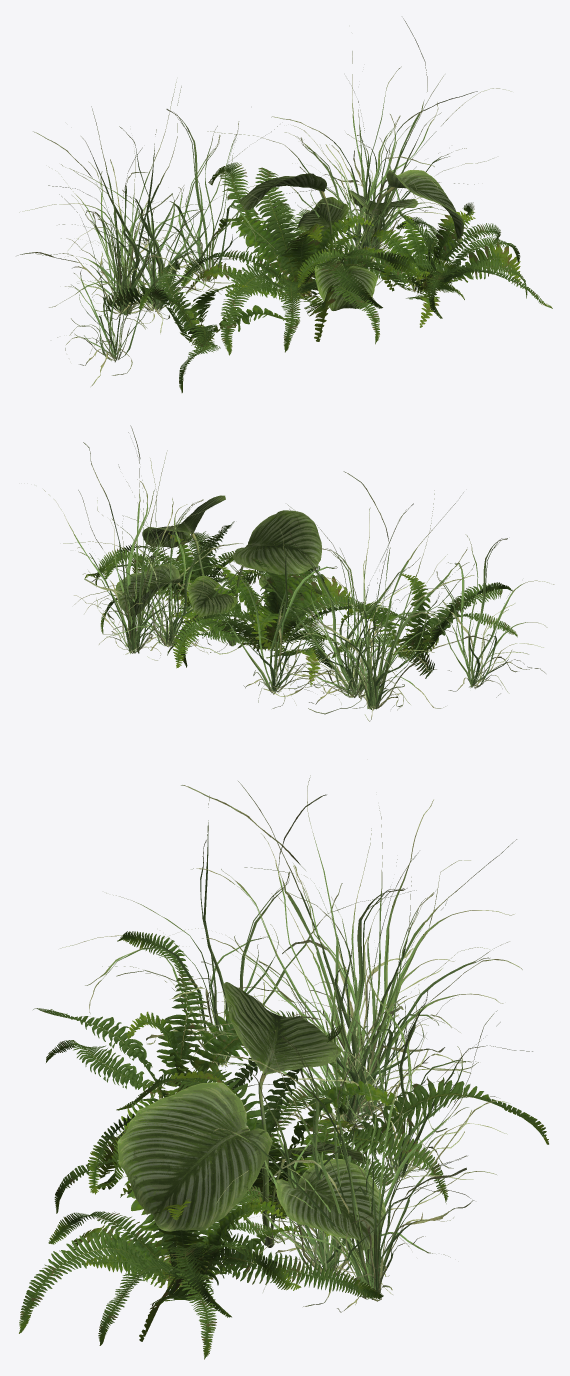
File: aquarium-plants-hd.glb
The picture shows the model from 3 angles, top to bottom: view 1: azimuth 30°, elevation 25°; view 2: azimuth 150°, elevation 25°; view 3: azimuth 270°, elevation 25°; orthographic projection. The views are drawn at different scales.
Visible parts, largest first — view 1: fern_02:fern_02_b (×2), grass_medium_02:grass_medium_02_d (×2), grass_medium_02:grass_medium_02_e (×2), calathea_orbifolia_01:calathea_orbifolia_01_b, grass_medium_02:grass_medium_02_c (×2), fern_02:fern_02_a; view 2: fern_02:fern_02_b (×2), grass_medium_02:grass_medium_02_e (×2), calathea_orbifolia_01:calathea_orbifolia_01_b, grass_medium_02:grass_medium_02_d (×2), grass_medium_02:grass_medium_02_c (×2), fern_02:fern_02_a; view 3: fern_02:fern_02_b (×2), calathea_orbifolia_01:calathea_orbifolia_01_b, grass_medium_02:grass_medium_02_e (×2), grass_medium_02:grass_medium_02_d (×2), fern_02:fern_02_a, grass_medium_02:grass_medium_02_c (×2).
Part boxes in pixels (x1=…): fern_02:fern_02_b (×2): x1=180, y1=162, x2=552, y2=355; grass_medium_02:grass_medium_02_d (×2): x1=19, y1=66, x2=474, y2=333; grass_medium_02:grass_medium_02_e (×2): x1=17, y1=18, x2=511, y2=323; calathea_orbifolia_01:calathea_orbifolia_01_b: x1=239, y1=170, x2=463, y2=310; grass_medium_02:grass_medium_02_c (×2): x1=57, y1=109, x2=274, y2=386; fern_02:fern_02_a: x1=102, y1=261, x2=299, y2=392; fern_02:fern_02_b (×2): x1=85, y1=521, x2=416, y2=685; grass_medium_02:grass_medium_02_e (×2): x1=43, y1=425, x2=491, y2=721; calathea_orbifolia_01:calathea_orbifolia_01_b: x1=115, y1=495, x2=321, y2=646; grass_medium_02:grass_medium_02_d (×2): x1=63, y1=458, x2=475, y2=714; grass_medium_02:grass_medium_02_c (×2): x1=150, y1=529, x2=554, y2=708; fern_02:fern_02_a: x1=331, y1=573, x2=517, y2=678; fern_02:fern_02_b (×2): x1=19, y1=1024, x2=548, y2=1359; calathea_orbifolia_01:calathea_orbifolia_01_b: x1=117, y1=982, x2=385, y2=1251; grass_medium_02:grass_medium_02_e (×2): x1=148, y1=781, x2=522, y2=1312; grass_medium_02:grass_medium_02_d (×2): x1=174, y1=775, x2=514, y2=1306; fern_02:fern_02_a: x1=33, y1=931, x2=348, y2=1131; grass_medium_02:grass_medium_02_c (×2): x1=60, y1=795, x2=532, y2=1190.
Size of the model in its own units: 0.9573 by 0.42 by 0.5815.
3 materials, 3 textured.
